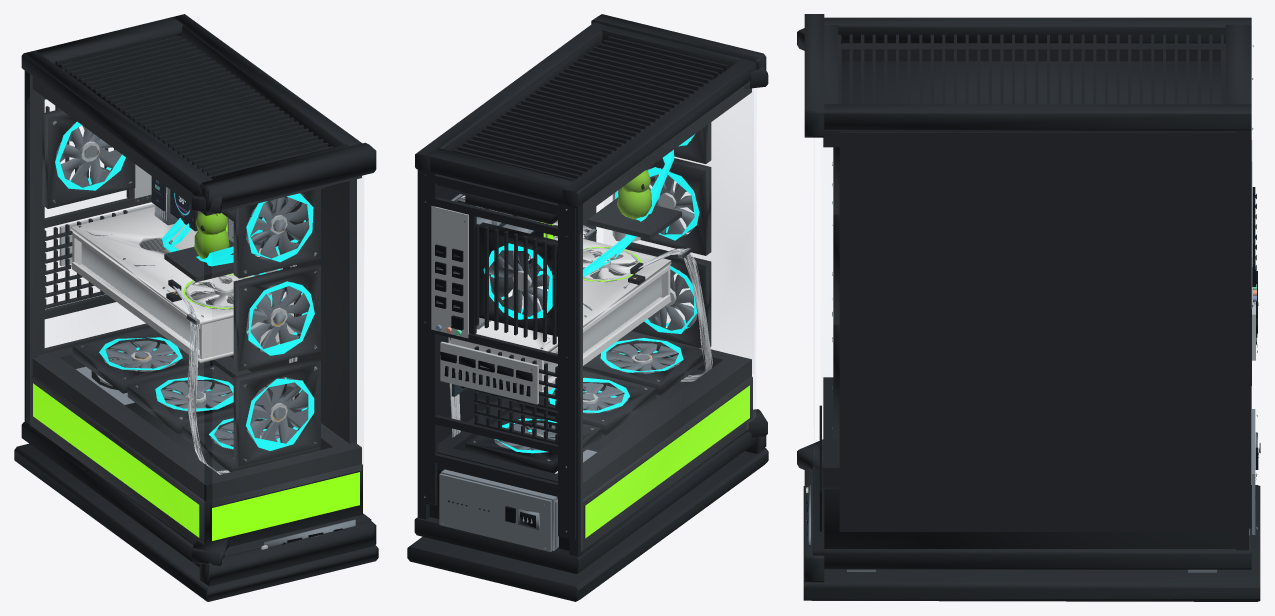
File: display87-aurora.glb
3 views of the same model, side by side, from view 1: azimuth 30°, elevation 25°; view 2: azimuth 150°, elevation 25°; view 3: azimuth 270°, elevation 25° (orthographic). The views are drawn at different scales.
Visible parts, largest first — view 1: s83-surface-bbbb1dbd-70f6-401d-b2a7-103f2581be6a, s83-surface-cf50de42-9940-44c5-8194-ddea5a566ab4, s83-surface-17c68363-daca-4ec6-8ee4-e366062f2d02, s83-surface-5ba50372-da72-42fd-9974-8adc934bd271; view 2: s83-surface-bbbb1dbd-70f6-401d-b2a7-103f2581be6a, s83-surface-ca58d354-7b3e-4283-b833-52c49d954483, s83-surface-cf50de42-9940-44c5-8194-ddea5a566ab4, s83-surface-17c68363-daca-4ec6-8ee4-e366062f2d02; view 3: s83-surface-bbbb1dbd-70f6-401d-b2a7-103f2581be6a.
Boxes of the visible parts, <box> form: s83-surface-bbbb1dbd-70f6-401d-b2a7-103f2581be6a: <box>14,14,378,601</box>; s83-surface-cf50de42-9940-44c5-8194-ddea5a566ab4: <box>33,217,359,540</box>; s83-surface-17c68363-daca-4ec6-8ee4-e366062f2d02: <box>55,121,314,450</box>; s83-surface-5ba50372-da72-42fd-9974-8adc934bd271: <box>171,190,193,228</box>; s83-surface-bbbb1dbd-70f6-401d-b2a7-103f2581be6a: <box>407,14,768,601</box>; s83-surface-ca58d354-7b3e-4283-b833-52c49d954483: <box>603,88,754,374</box>; s83-surface-cf50de42-9940-44c5-8194-ddea5a566ab4: <box>541,222,749,538</box>; s83-surface-17c68363-daca-4ec6-8ee4-e366062f2d02: <box>483,134,699,453</box>; s83-surface-bbbb1dbd-70f6-401d-b2a7-103f2581be6a: <box>797,14,1260,601</box>.
Size of the model in its own units: 1.37 by 2.99 by 2.56.
Materials: 6 (5 with a texture image).
